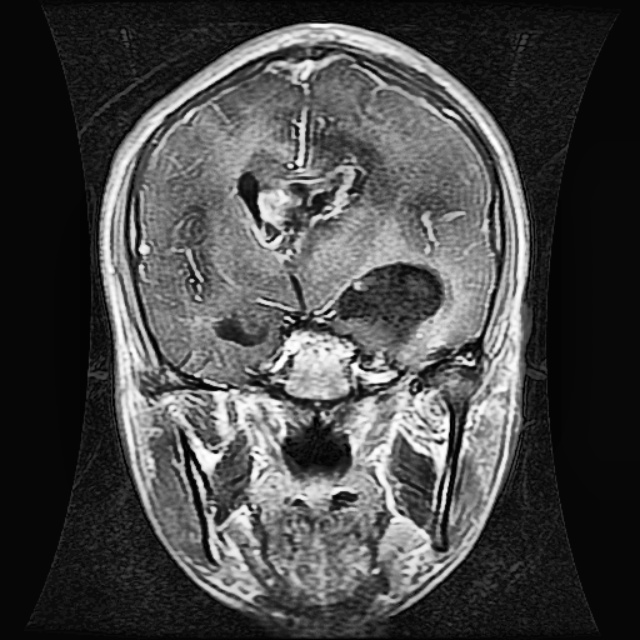Meningioma: (234, 135, 378, 260)
